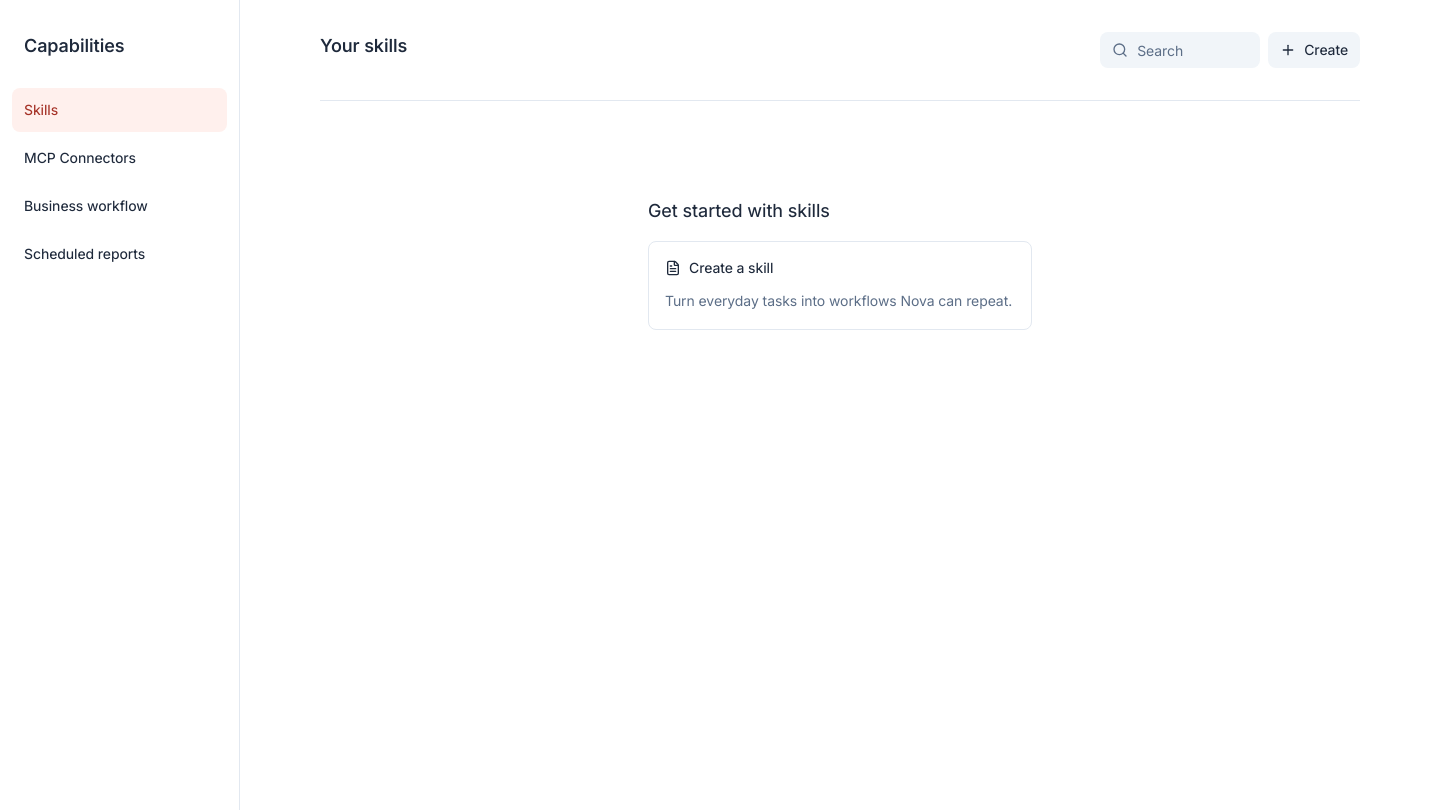
Test case: Studio personal capabilities › keeps refused capability reads bounded and allows retry
Click the button "Business workflow" at {"x": 120, "y": 206}, box [12,184,227,228]
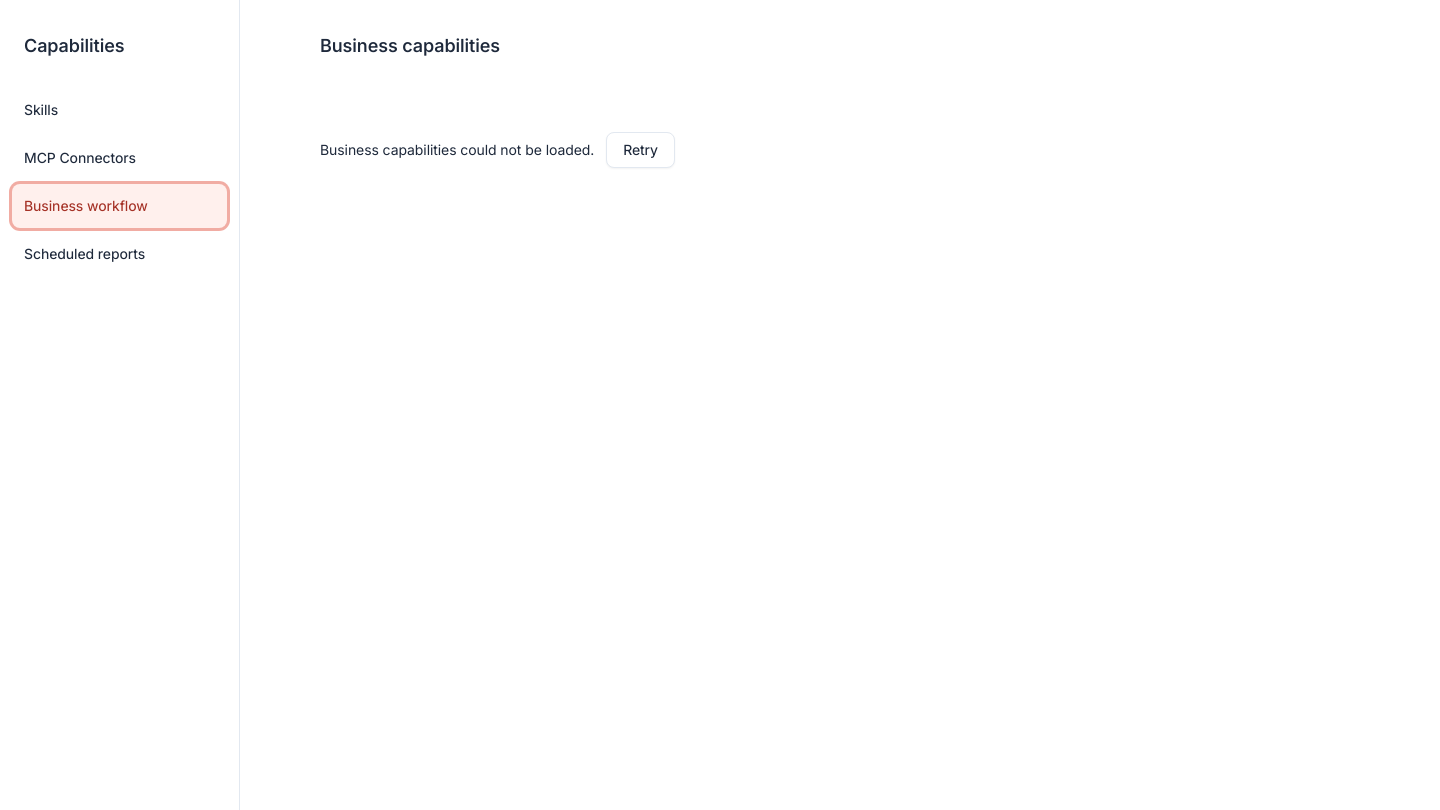
Check: the message shows "Business capabilities could not be loaded.", box [320,141,594,158]
Click the button "Retry" at {"x": 641, "y": 150}, box [606,132,675,168]
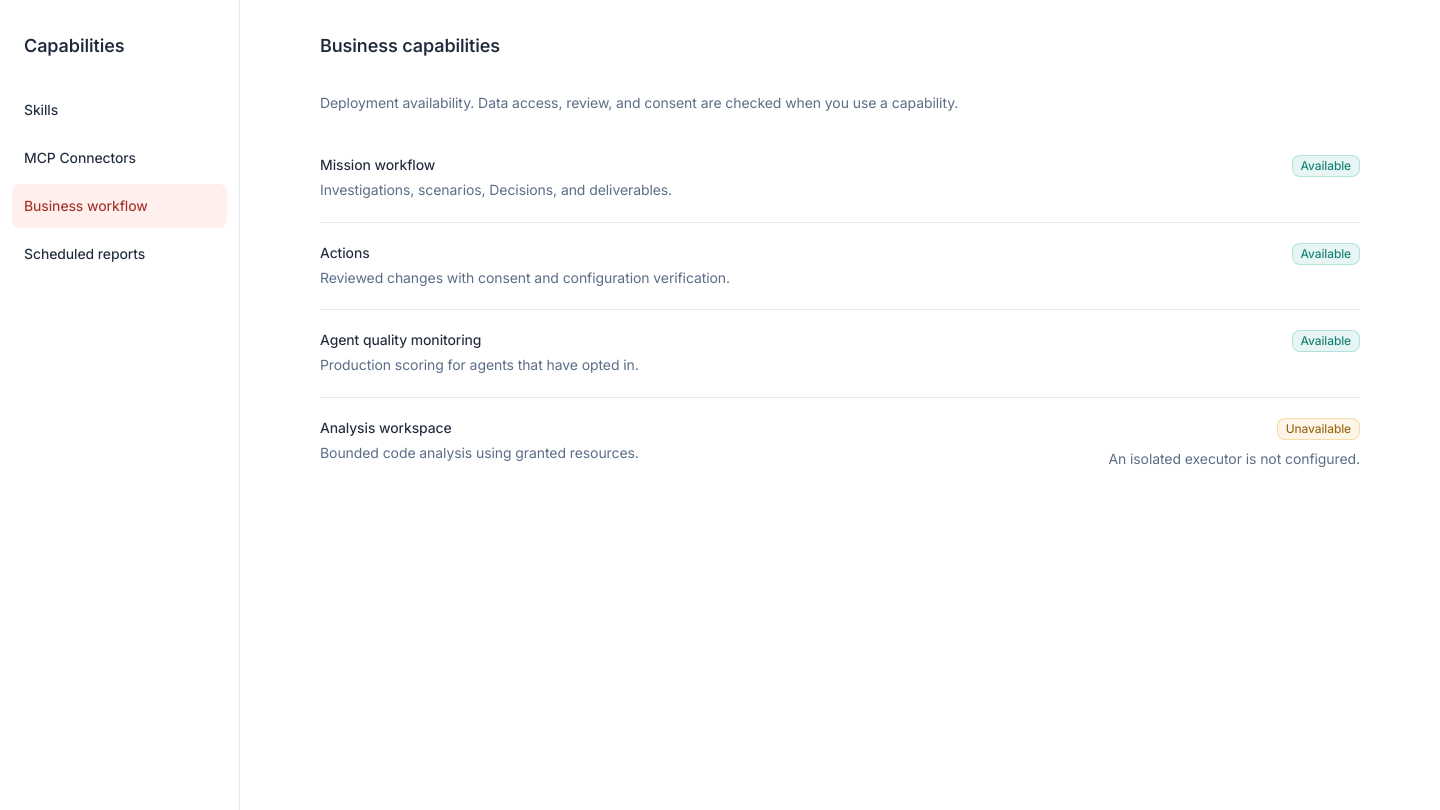
Check: the text "Mission workflow" is shown, box [320,156,435,173]
